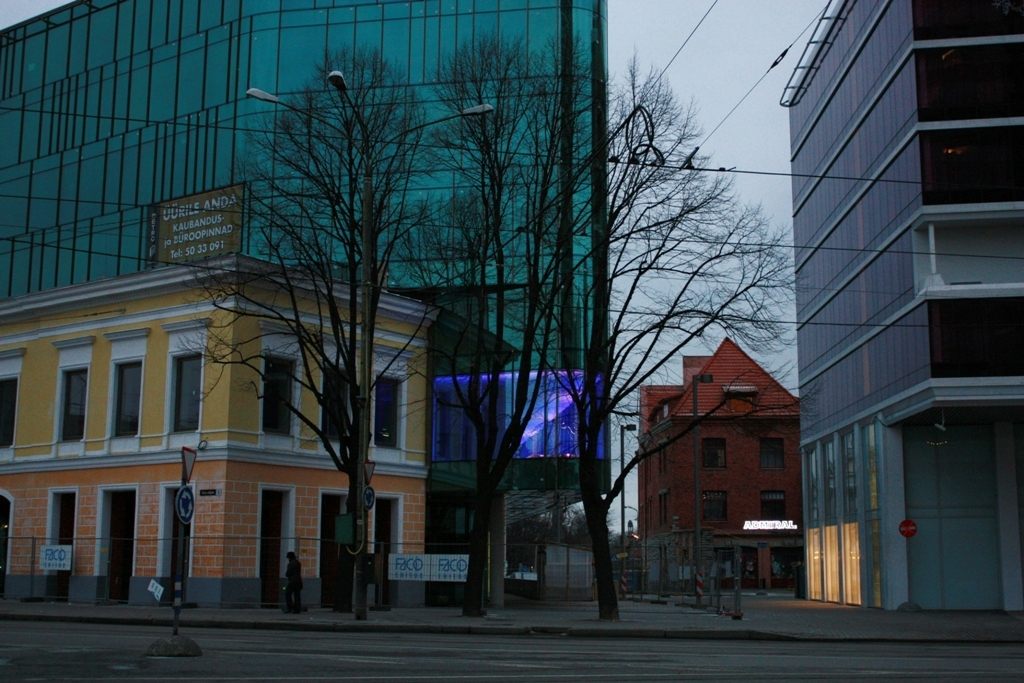Tree: (480, 31, 810, 630), (359, 31, 602, 622)
